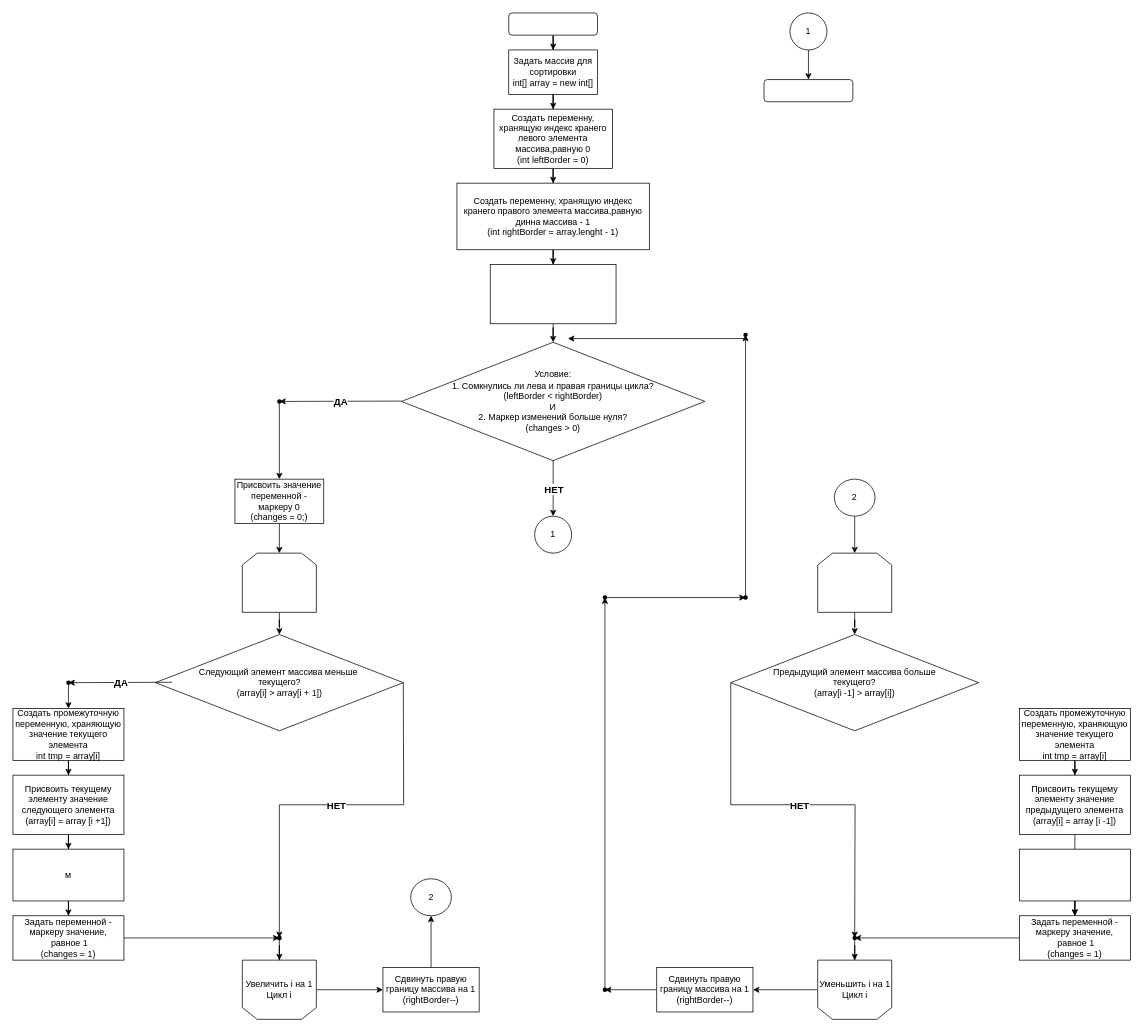
Some shapes in this 1143 by 1032 pixel diagram are drawn without their labels. Each missing label, with the centre of its shape:
Записываем в предыдущий элемент значение текущего элемента (array [i +-1] = tmp): (1074,874)
Конец: (808,90)
Начало: (553,23)
Создать переменную - маркер наличия изменений в цикле, равную 1 (changes = 1;): (553,294)
Цикл i от leftBorder до rightBorder: (279,582)
Цикл i от rightBorder до leftBorder: (854,582)
